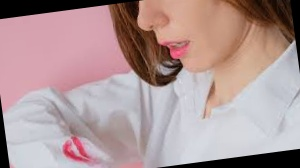lipstick: (53, 130, 92, 168)
